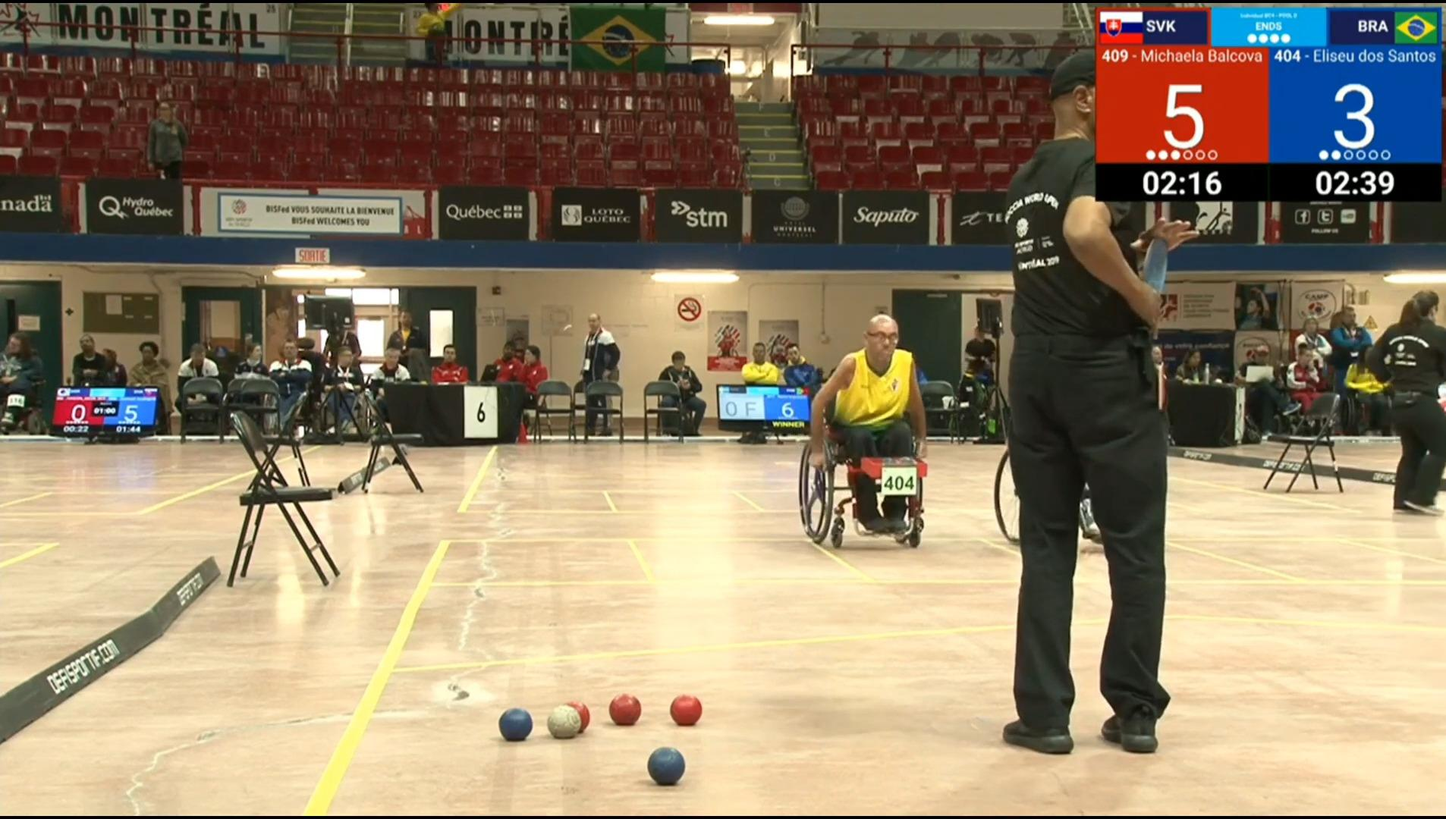blue_ball: (645, 745, 688, 789), (497, 708, 532, 741)
red_ball: (670, 692, 704, 728), (609, 692, 642, 726)
white_ball: (547, 706, 582, 740)
